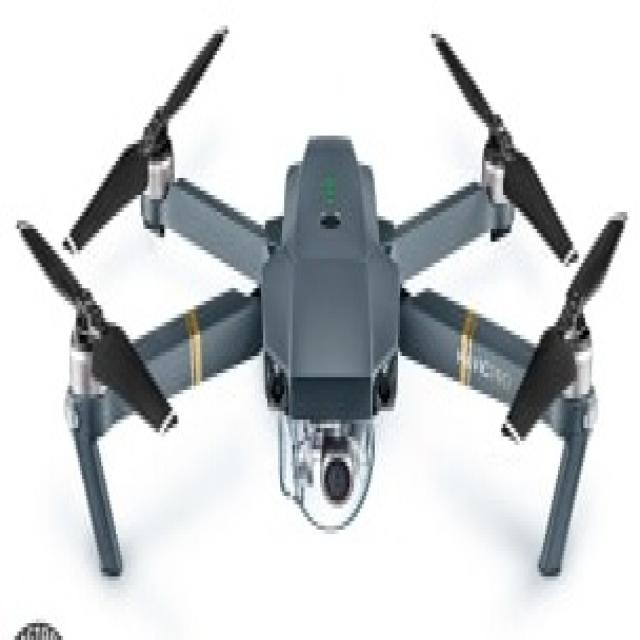drone: (7, 18, 628, 614)
